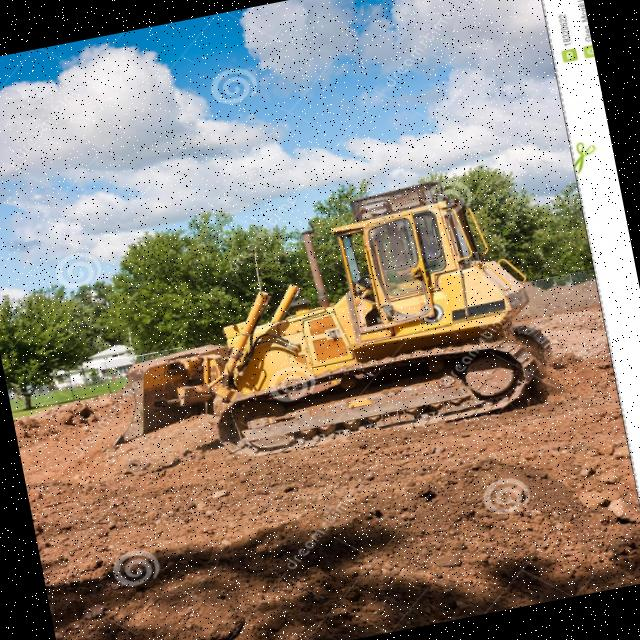Bulldozer: (54, 132, 589, 520)
